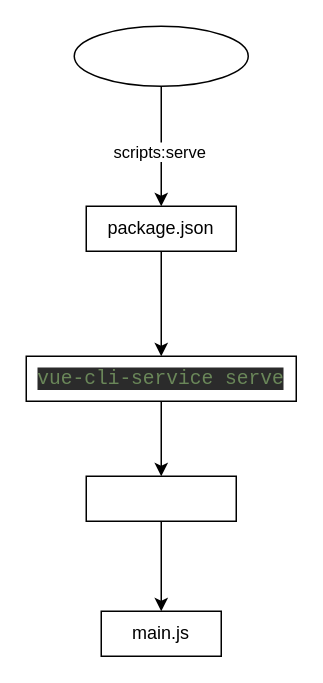
This 323x683 diagram has some shape labels left out. Each missing label, with the centre of its shape:
npm run serve: point 160,55
vue.config.js: point 160,498
